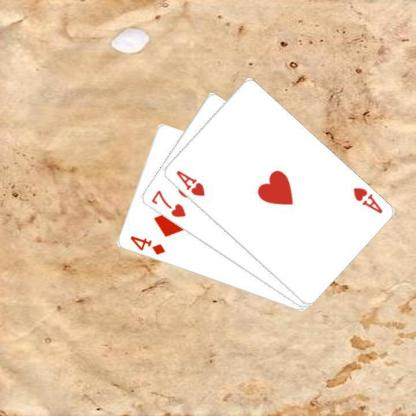4D: (127, 234, 166, 256)
7H: (149, 187, 187, 219)
AH: (350, 185, 384, 215), (173, 168, 206, 198)
